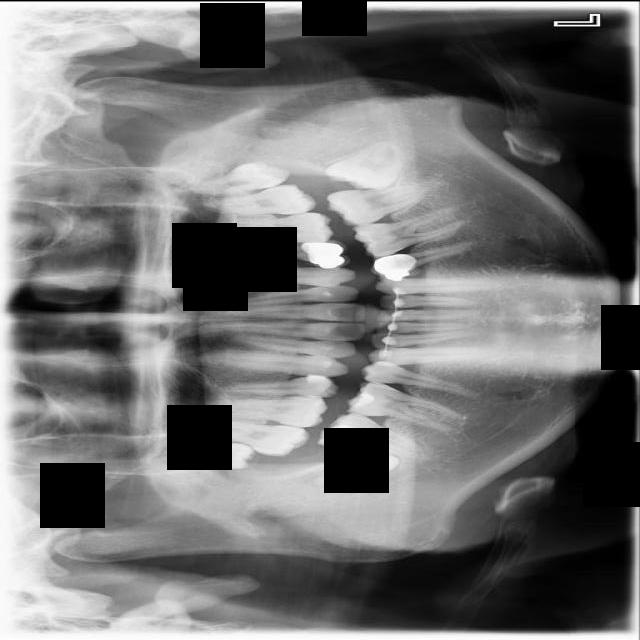3M ESPE Implant: (156, 439, 255, 470)
52: (311, 396, 381, 464), (346, 379, 403, 417), (299, 238, 349, 268), (368, 252, 419, 280), (308, 283, 359, 303), (307, 338, 355, 358)
73: (564, 43, 582, 54)
BioHorizons Implant: (200, 182, 318, 217)
BioLife Implant: (190, 156, 291, 198)
Biomet 3i Implant: (322, 130, 417, 209)
Blue Sky Bio Implant: (325, 180, 442, 229)
Caries: (187, 418, 312, 458)
Implant: (314, 407, 435, 462)
Keystone Dental Implant: (316, 445, 400, 500)
